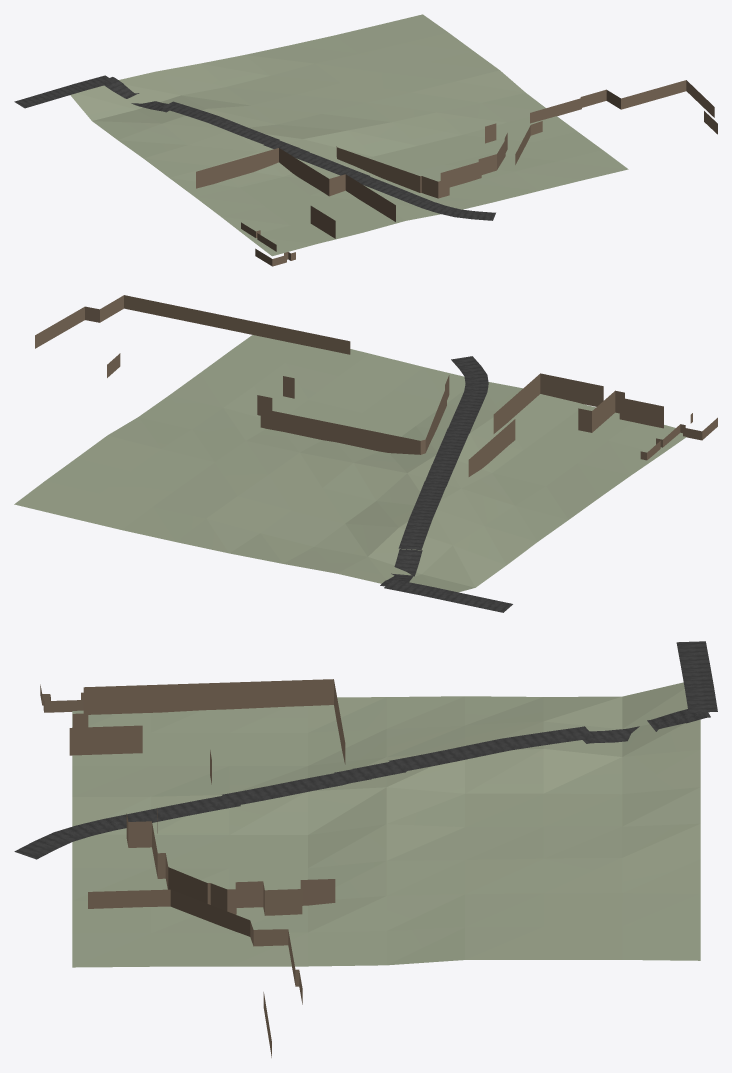
The model's file is tile_40_-18_lod1.gltf.
3 views of the same model, one above another, from view 1: azimuth 30°, elevation 25°; view 2: azimuth 150°, elevation 25°; view 3: azimuth 270°, elevation 25° (orthographic). The views are drawn at different scales.
Parts seen in each view (by area): view 1: Terrain_col, Buildings_col, Roads; view 2: Terrain_col, Buildings_col, Roads; view 3: Terrain_col, Buildings_col, Roads.
Part boxes in pixels (<box>): Terrain_col: <box>70,14,628,256</box>; Buildings_col: <box>196,80,717,266</box>; Roads: <box>14,75,495,220</box>; Terrain_col: <box>14,335,686,592</box>; Buildings_col: <box>35,295,717,476</box>; Roads: <box>380,356,512,612</box>; Terrain_col: <box>72,682,700,967</box>; Buildings_col: <box>40,679,345,1057</box>; Roads: <box>14,641,717,859</box>.
Size of the model in its own units: 381 by 13.73 by 287.
3 materials, 1 textured.
